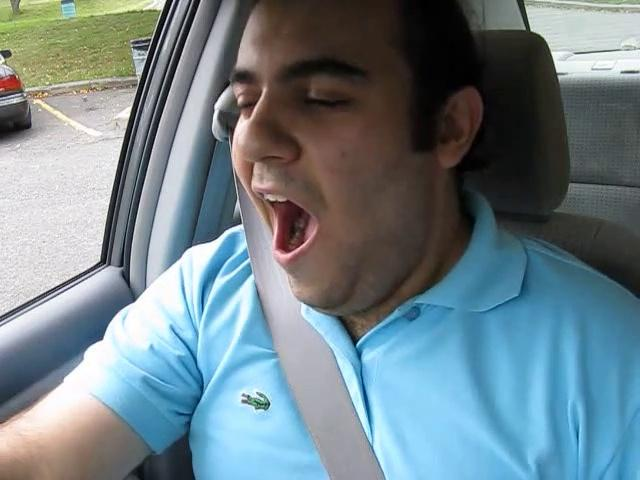close_eyeL: (226, 77, 264, 129)
close_eyeR: (280, 72, 378, 129)
yawn: (243, 182, 343, 270)
